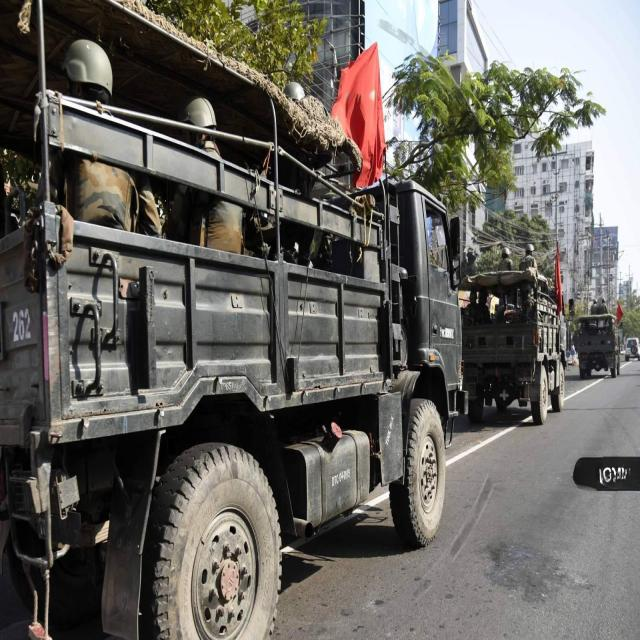truck: (0, 0, 466, 639), (459, 238, 566, 423), (579, 298, 620, 378)
